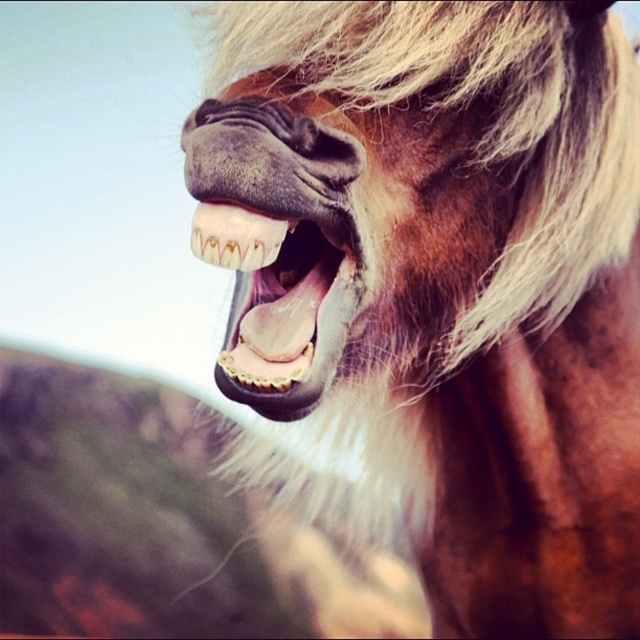Horse: (180, 1, 639, 639)
